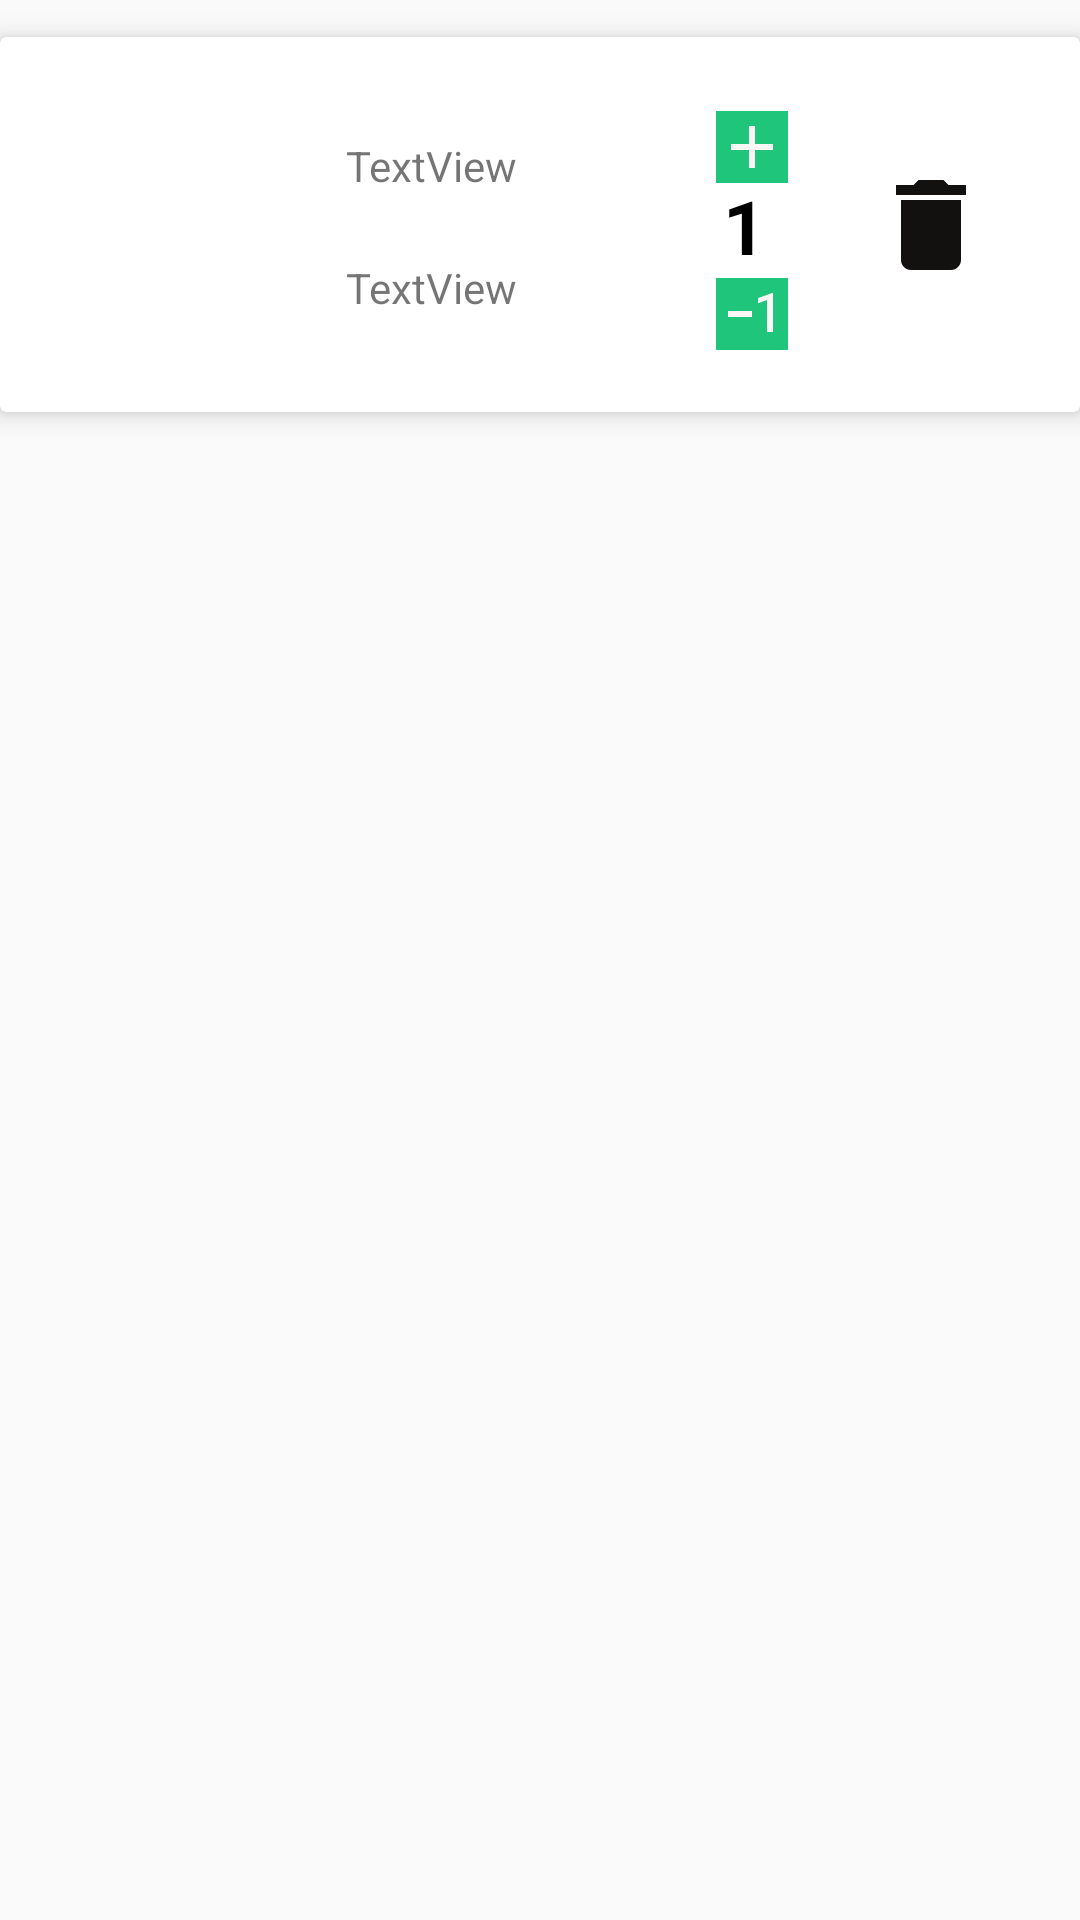

Named icons in this screenshot (1080px x 1920px) and their bounding boxes, (x1, y1, x2, y2):
add: (716, 111, 788, 183)
delete: (896, 180, 966, 270)
minus: (716, 278, 788, 350)
